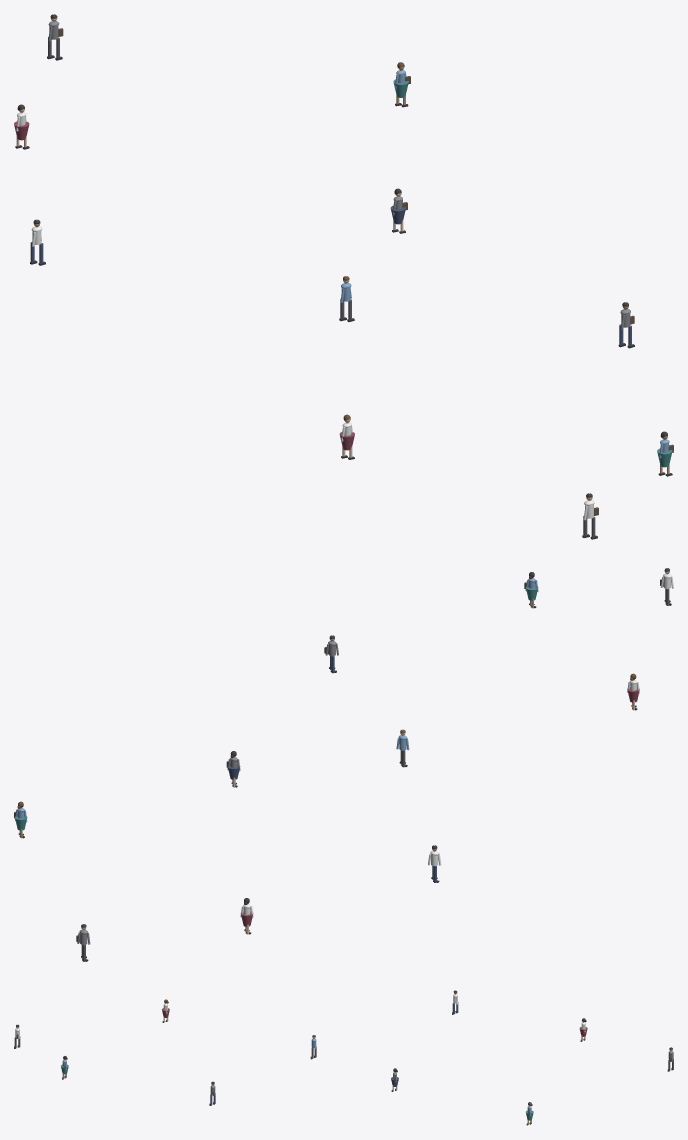
Rendered from visitors.glb.
The picture shows the model from 3 angles, top to bottom: view 1: azimuth 30°, elevation 25°; view 2: azimuth 150°, elevation 25°; view 3: azimuth 270°, elevation 25°; orthographic projection. The views are drawn at different scales.
Size of the model in its own units: 20.19 by 1.86 by 48.98.
